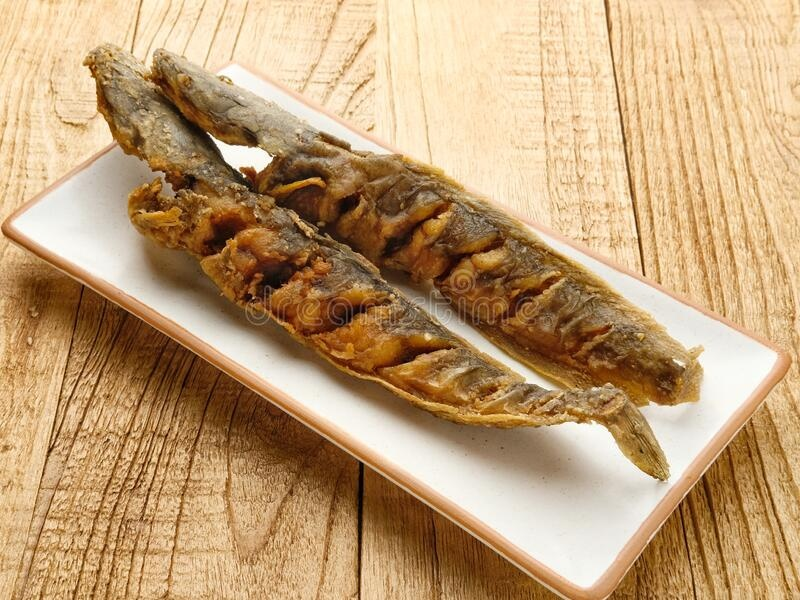pecel_lele: (64, 22, 710, 488), (133, 31, 706, 415)
